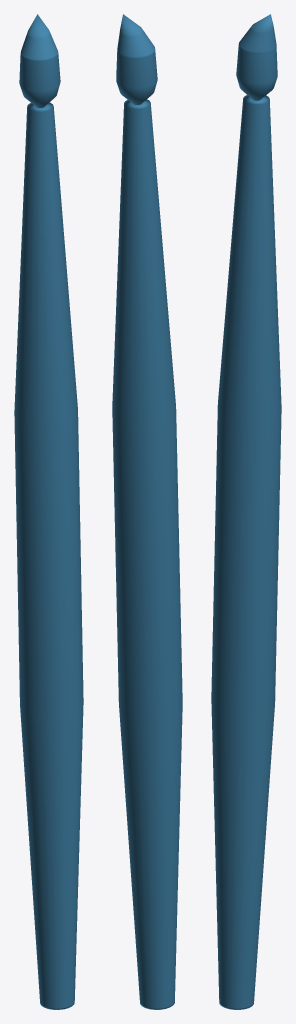
The model's file is Brush Mod.fbx.
3 renders of one model, left to right at view 1: azimuth 90°, elevation 25°; view 2: azimuth 150°, elevation 25°; view 3: azimuth 330°, elevation 25°, orthographic.
Parts seen in each view (by area): view 1: Paint_Brush10; view 2: Paint_Brush10; view 3: Paint_Brush10.
Part boxes in pixels (box(x1,y1,x2,y2)): Paint_Brush10: box(14, 14, 83, 1009); Paint_Brush10: box(112, 14, 182, 1009); Paint_Brush10: box(211, 14, 281, 1009).
Bounding box in the file's own units: 1.93 × 30.68 × 1.97.
